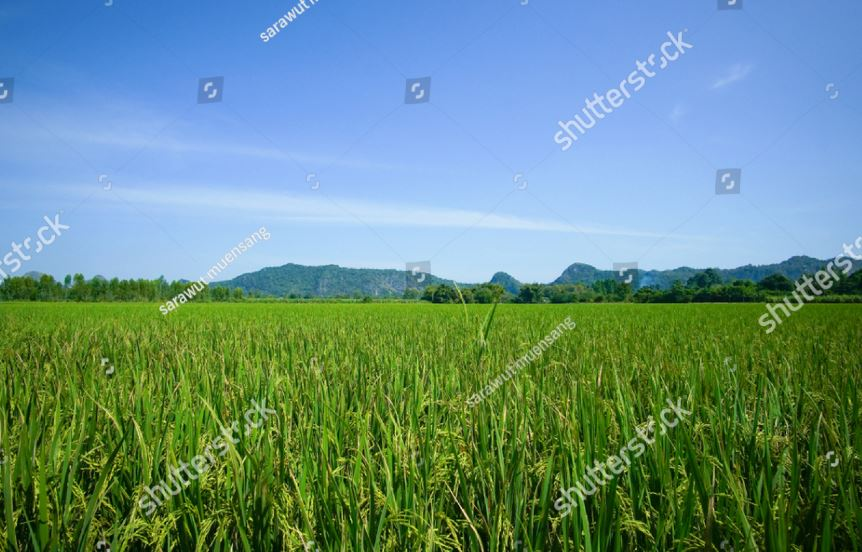Wheat: (80, 356, 588, 537)
